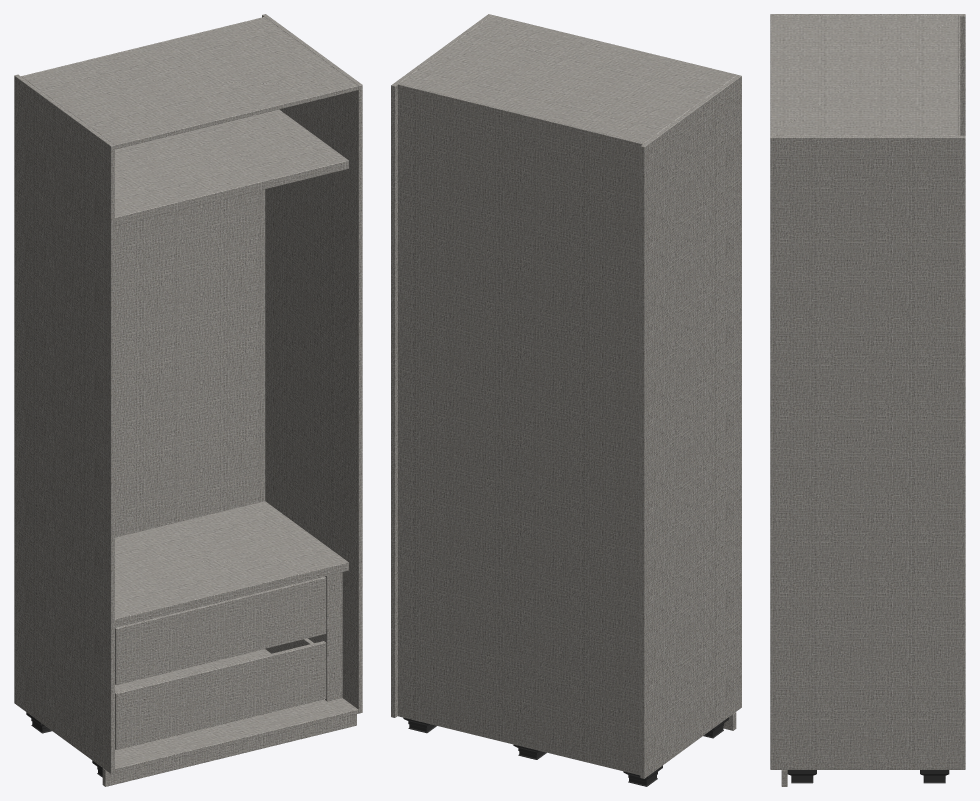
Rendered from cbib12132.gltf.
3 renders of one model, left to right at view 1: azimuth 30°, elevation 25°; view 2: azimuth 150°, elevation 25°; view 3: azimuth 270°, elevation 25°, orthographic.
Parts seen in each view (by area): view 1: CBIB12132; view 2: CBIB12132; view 3: CBIB12132.
Boxes of the visible parts, box(x1,y1,x2,y2) form: CBIB12132: box(14, 14, 362, 786); CBIB12132: box(391, 14, 741, 786); CBIB12132: box(770, 14, 965, 786).
Size of the model in its own units: 0.9 by 2.2 by 0.6.
3 materials, 2 textured.
